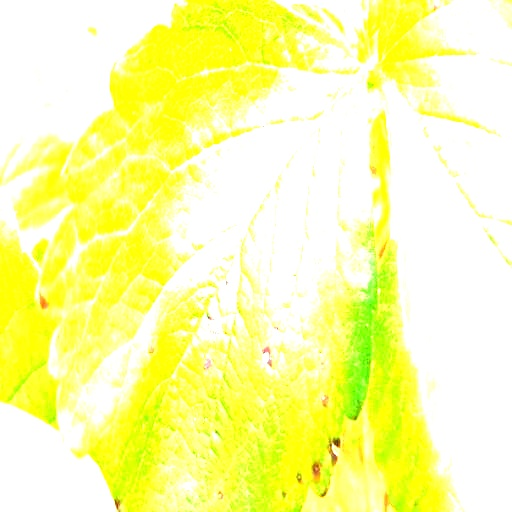Leaf Spot: (34, 0, 379, 511), (360, 0, 511, 511), (363, 236, 458, 511)
